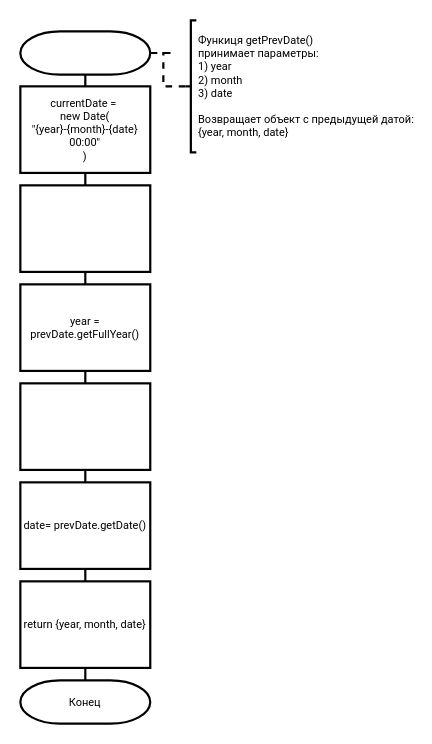
Some shapes in this 432 by 744 pixel diagram are drawn without their labels. The centre of each missing label's shape, as x and y in pixels:
"month= prevDate.getMonth() + 1" belongs at (x=85, y=426).
"prevDate= new Date( currentDate.getTime() - 1000 * 60 * 60 * 24 * 1 )" belongs at (x=85, y=228).
"Начало" belongs at (x=85, y=52).
